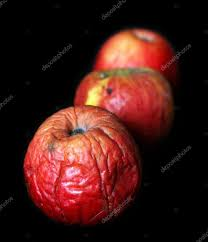damaged_apple: (25, 107, 148, 222), (69, 69, 176, 134)
